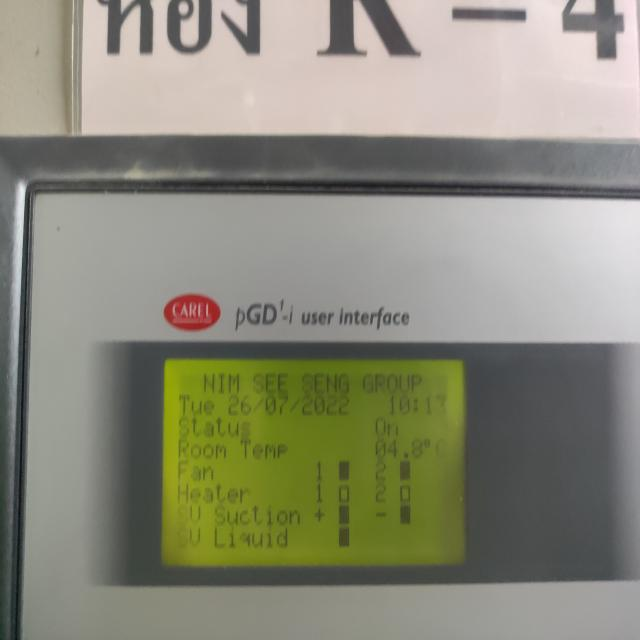display: (165, 361, 465, 567)
frame: (224, 392, 351, 417), (386, 391, 451, 420), (372, 439, 425, 459), (374, 482, 388, 506), (374, 461, 388, 482), (277, 294, 287, 314), (315, 460, 324, 481), (316, 482, 323, 507)
gauge: (0, 134, 640, 640)
